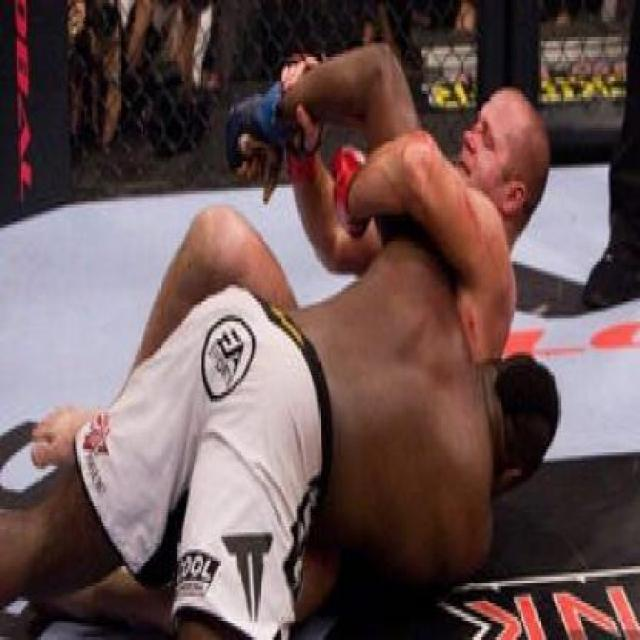fall: (6, 0, 556, 637)
